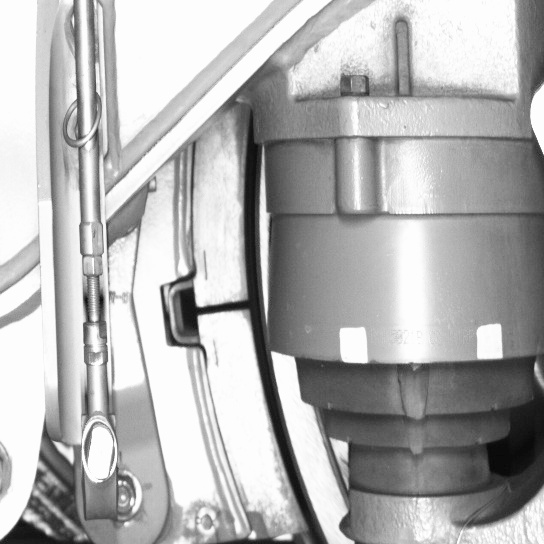KnifeSwitch: (192, 138, 327, 542)
